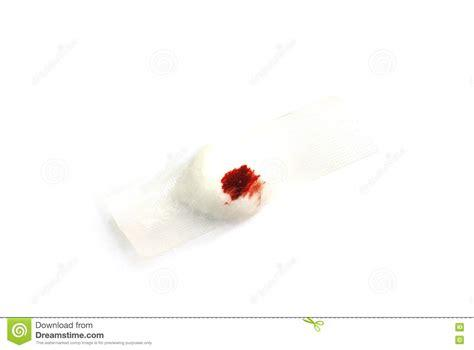cotton: (179, 144, 267, 221)
